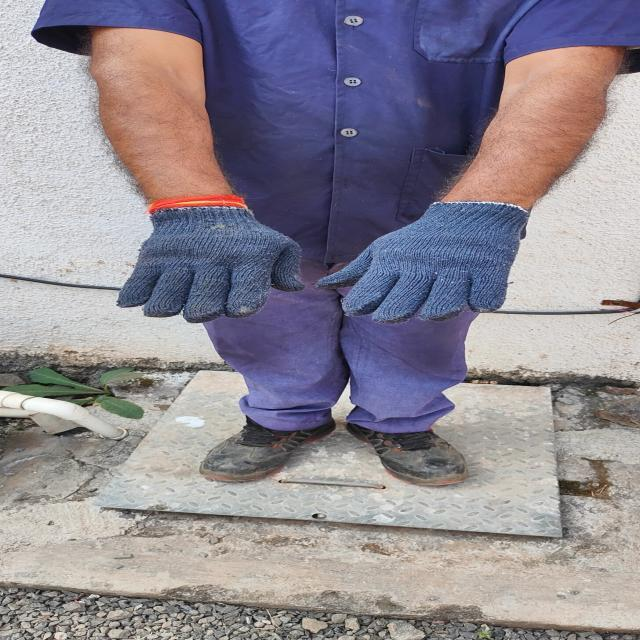Gloves: (313, 197, 532, 323), (109, 198, 310, 321)
